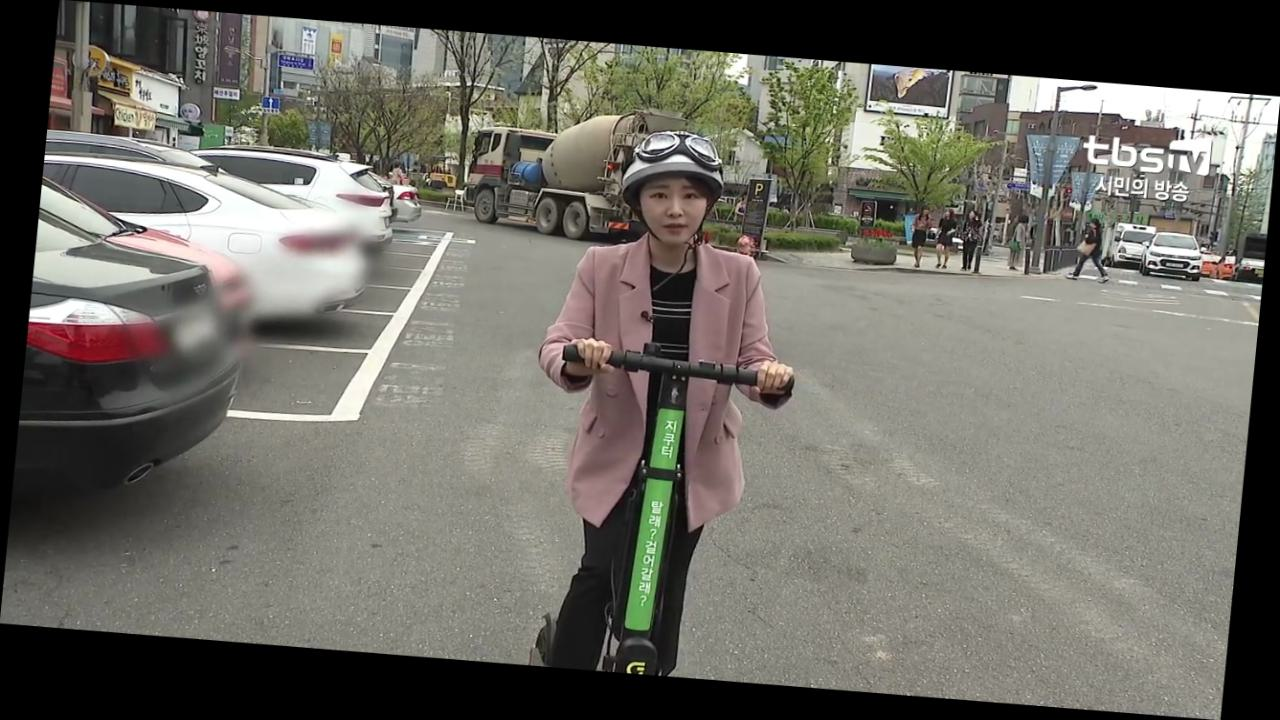helmet: (506, 120, 822, 685)
